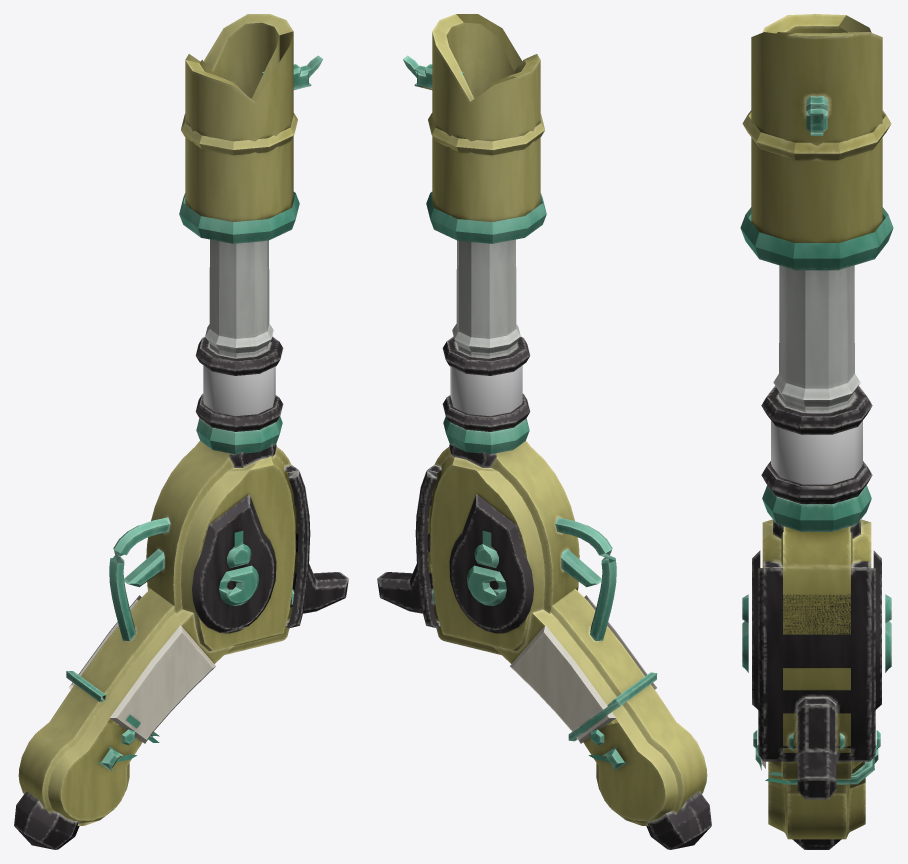
Rendered from Kegthunder Cannon.fbx.
The picture shows the model from 3 angles, left to right: view 1: azimuth 30°, elevation 25°; view 2: azimuth 150°, elevation 25°; view 3: azimuth 270°, elevation 25°; orthographic projection. The views are drawn at different scales.
Parts seen in each view (by area): view 1: Kegthunder Cannon_Body, Kegthunder Cannon_Glow; view 2: Kegthunder Cannon_Body, Kegthunder Cannon_Glow; view 3: Kegthunder Cannon_Body, Kegthunder Cannon_Glow.
Part boxes in pixels (<box>): Kegthunder Cannon_Body: <box>14,14,348,849</box>; Kegthunder Cannon_Glow: <box>203,365,275,416</box>; Kegthunder Cannon_Body: <box>377,14,711,849</box>; Kegthunder Cannon_Glow: <box>450,365,522,416</box>; Kegthunder Cannon_Body: <box>740,14,893,849</box>; Kegthunder Cannon_Glow: <box>771,420,862,484</box>.
Bounding box in the file's own units: 1.09 × 2.47 × 0.3592.
